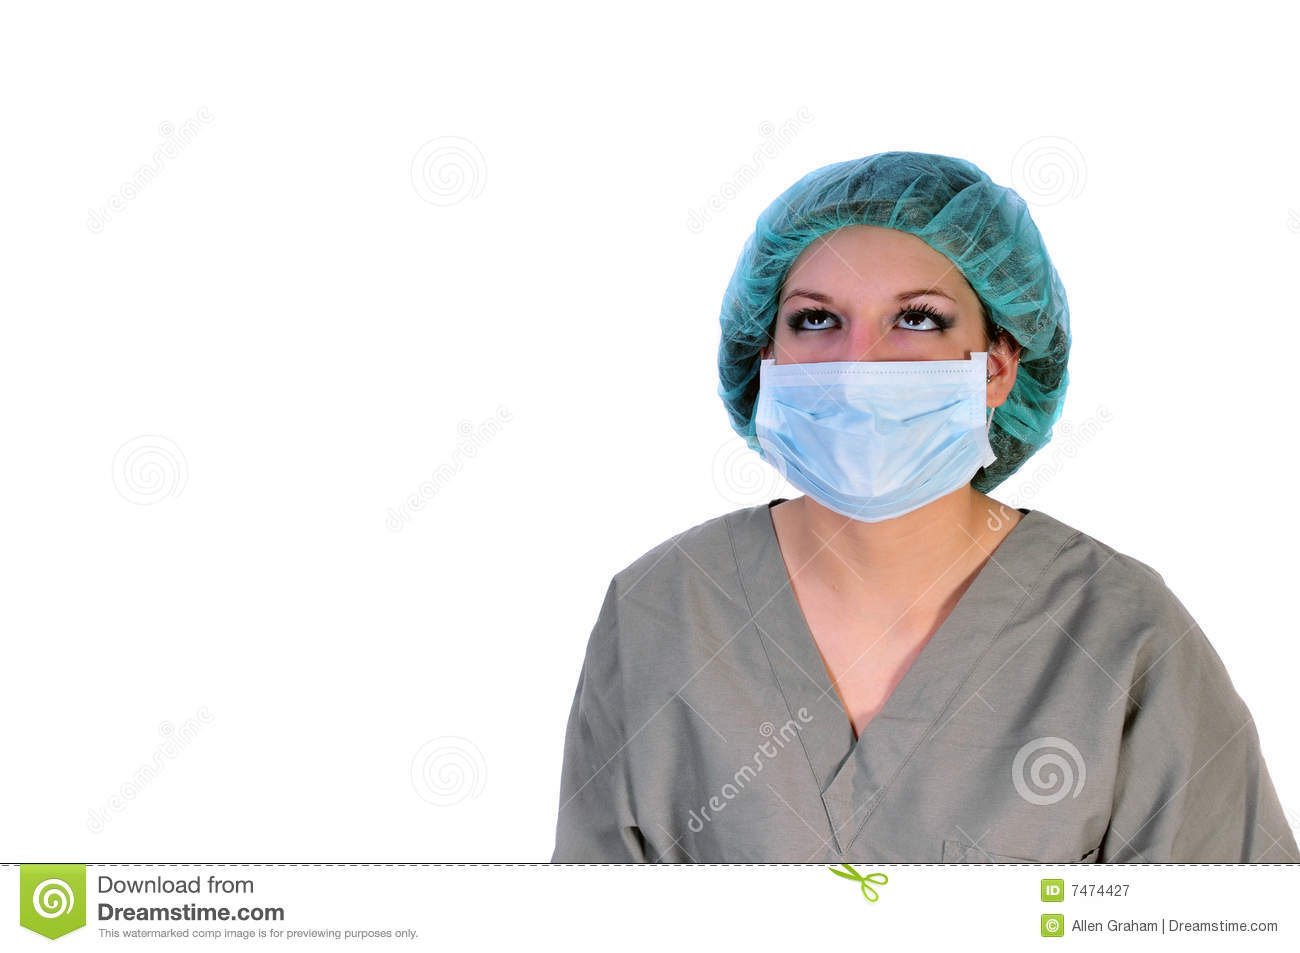mask: (757, 358, 1007, 524)
